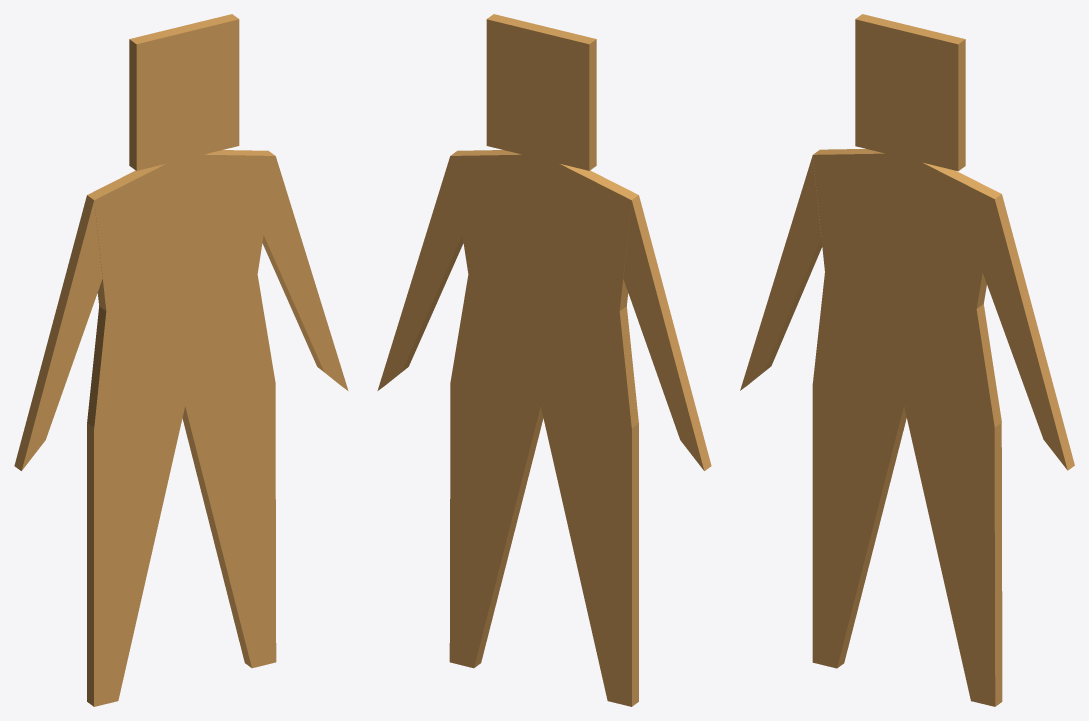
The model's file is Male.fbx.
3 views of the same model, side by side, from view 1: azimuth 30°, elevation 25°; view 2: azimuth 150°, elevation 25°; view 3: azimuth 330°, elevation 25° (orthographic).
Parts seen in each view (by area): view 1: Head.002, Head.003, Head.004, Head.001, Head.005, Head.006; view 2: Head.002, Head.003, Head.004, Head.001, Head.005, Head.006; view 3: Head.002, Head.004, Head.003, Head.001, Head.006, Head.005.
Boxes of the visible parts, box(x1,y1,x2,y2) form: Head.002: box(87, 150, 275, 428); Head.003: box(87, 406, 184, 706); Head.004: box(182, 384, 276, 668); Head.001: box(129, 14, 239, 170); Head.005: box(14, 195, 102, 470); Head.006: box(262, 156, 348, 390); Head.002: box(450, 150, 638, 428); Head.003: box(541, 406, 638, 706); Head.004: box(449, 384, 543, 668); Head.001: box(486, 14, 596, 170); Head.005: box(623, 195, 711, 470); Head.006: box(377, 156, 463, 390); Head.002: box(813, 149, 1001, 427); Head.004: box(904, 405, 1002, 706); Head.003: box(812, 383, 906, 668); Head.001: box(855, 14, 965, 171); Head.006: box(982, 194, 1074, 470); Head.005: box(740, 155, 822, 390).
Bounding box in the file's own units: 54.05 × 103 × 2.05.
